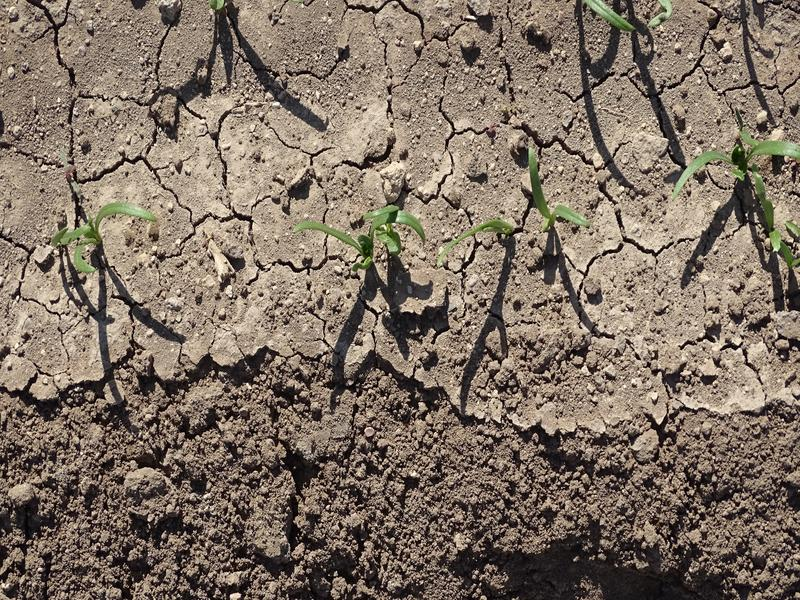Espinaca: (675, 131, 800, 263), (293, 209, 426, 265), (62, 201, 157, 270), (526, 145, 590, 232), (440, 216, 517, 268), (596, 1, 673, 33)
